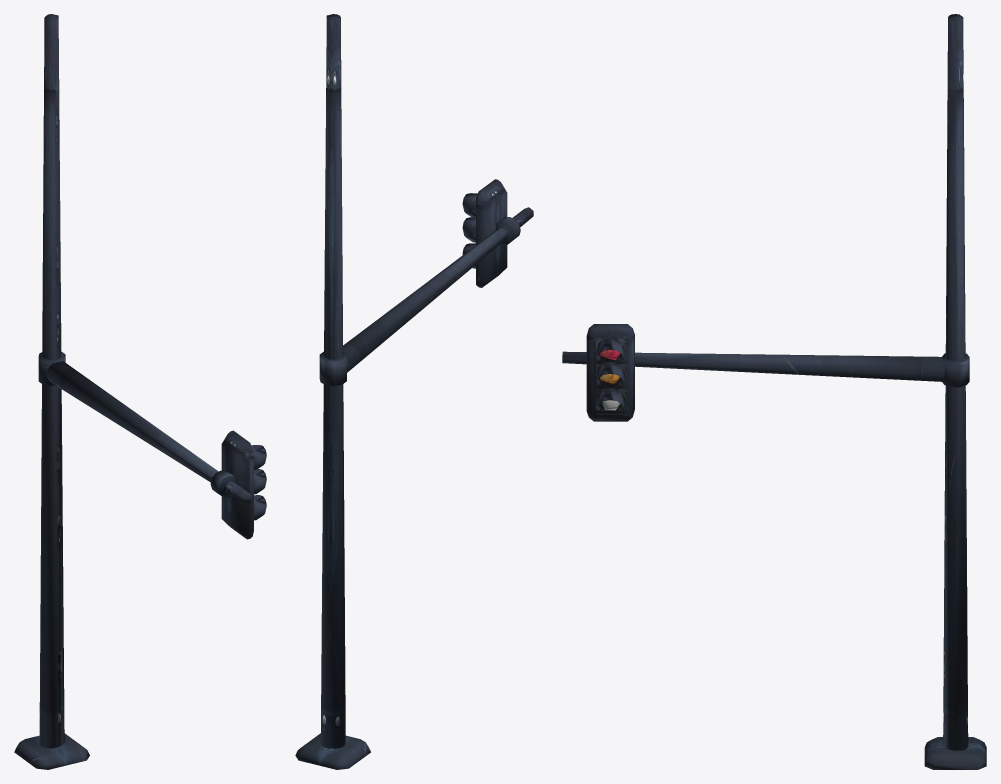
Rendered from TrafficLight1_2.fbx.
The picture shows the model from 3 angles, left to right: view 1: azimuth 30°, elevation 25°; view 2: azimuth 150°, elevation 25°; view 3: azimuth 270°, elevation 25°; orthographic projection.
Parts seen in each view (by area): view 1: Post0, beam0, frameSgl0, base0, cpls0, hoods0; view 2: Post0, beam0, frameSgl0, base0, cpls0, hoods0; view 3: Post0, beam0, frameSgl0, base0, hoods0, cpls0.
Boxes of the visible parts, x1=… form: Post0: x1=39, y1=14, x2=64, y2=748; beam0: x1=47, y1=361, x2=252, y2=504; frameSgl0: x1=221, y1=430, x2=253, y2=539; base0: x1=14, y1=733, x2=89, y2=769; cpls0: x1=38, y1=351, x2=235, y2=497; hoods0: x1=251, y1=445, x2=266, y2=520; Post0: x1=320, y1=14, x2=345, y2=748; beam0: x1=343, y1=207, x2=533, y2=372; frameSgl0: x1=476, y1=179, x2=507, y2=287; base0: x1=295, y1=733, x2=370, y2=769; cpls0: x1=319, y1=217, x2=520, y2=385; hoods0: x1=462, y1=193, x2=477, y2=268; Post0: x1=943, y1=14, x2=968, y2=750; beam0: x1=562, y1=351, x2=944, y2=381; frameSgl0: x1=586, y1=324, x2=634, y2=421; base0: x1=924, y1=737, x2=986, y2=769; hoods0: x1=596, y1=337, x2=624, y2=410; cpls0: x1=941, y1=353, x2=969, y2=387.
Bounding box in the file's own units: 0.9938 × 10.65 × 5.54.
